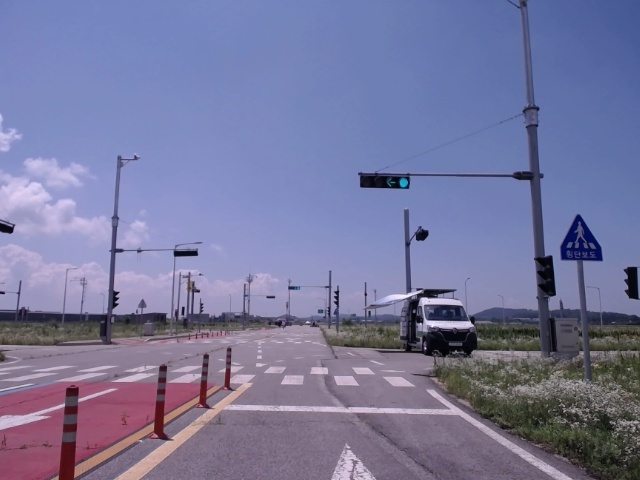all_green_4: (359, 173, 412, 190)
